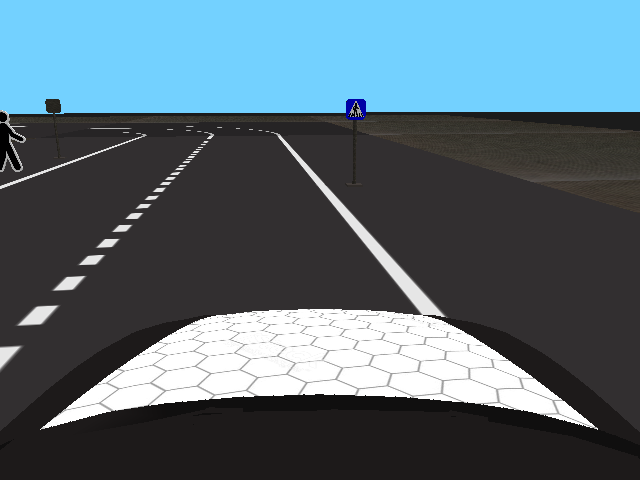pedestrian_cross: (345, 98, 365, 120)
